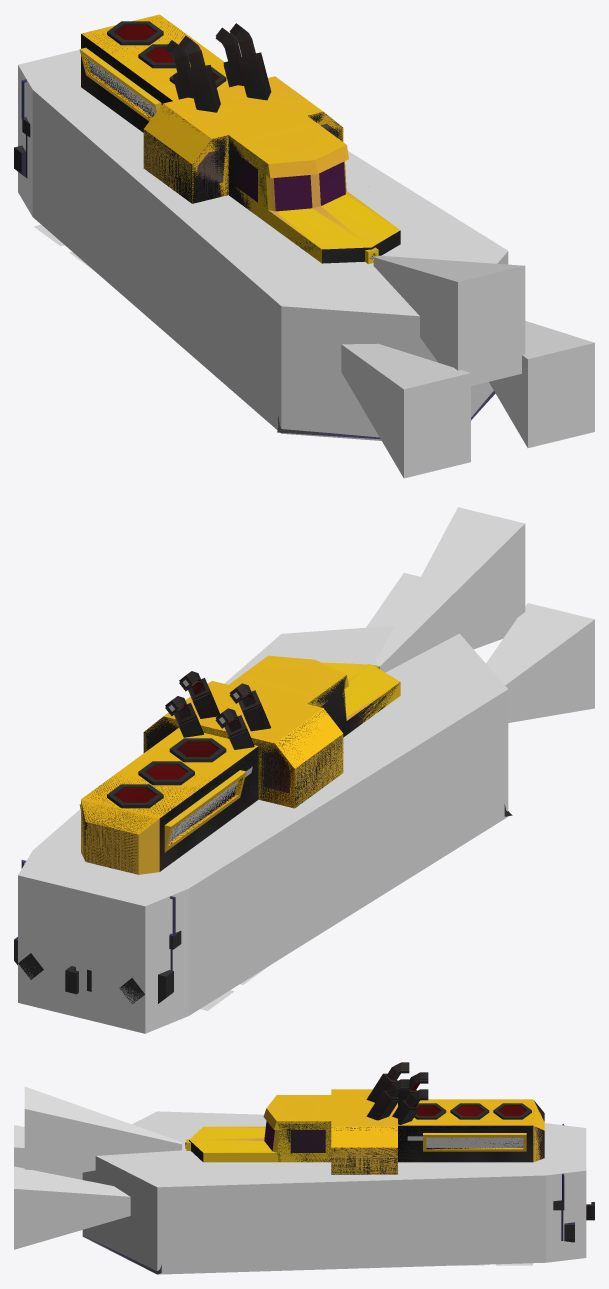
The model's file is Machine.fbx.
3 renders of one model, top to bottom at view 1: azimuth 30°, elevation 25°; view 2: azimuth 150°, elevation 25°; view 3: azimuth 270°, elevation 25°, orthographic. The views are drawn at different scales.
Visible parts, largest first — view 1: machine_cldr, machine_gr, machine, machine_dead, machine_lckd, DeadDamageMesh; view 2: machine_cldr, machine, machine_gr, machine_dead, machine_lckd, DeadDamageMesh; view 3: machine_cldr, machine, machine_gr, machine_dead, machine_lckd, DeadDamageMesh.
Boxes of the visible parts, x1,y1,x2,y2 form: machine_cldr: (18, 50, 508, 440); machine_gr: (341, 255, 594, 478); machine: (14, 14, 495, 439); machine_dead: (81, 21, 400, 423); machine_lckd: (83, 37, 342, 203); DeadDamageMesh: (88, 59, 155, 116); machine_cldr: (18, 625, 508, 1033); machine: (14, 655, 512, 1003); machine_gr: (366, 507, 594, 722); machine_dead: (19, 671, 399, 978); machine_lckd: (143, 681, 342, 843); DeadDamageMesh: (169, 766, 252, 842); machine_cldr: (82, 1111, 586, 1274); machine: (87, 1069, 594, 1274); machine_gr: (14, 1086, 181, 1249); machine_dead: (160, 1062, 594, 1269); machine_lckd: (331, 1073, 522, 1174); DeadDamageMesh: (407, 1136, 523, 1147).
Size of the model in its own units: 6.51 by 6.4 by 20.32.
